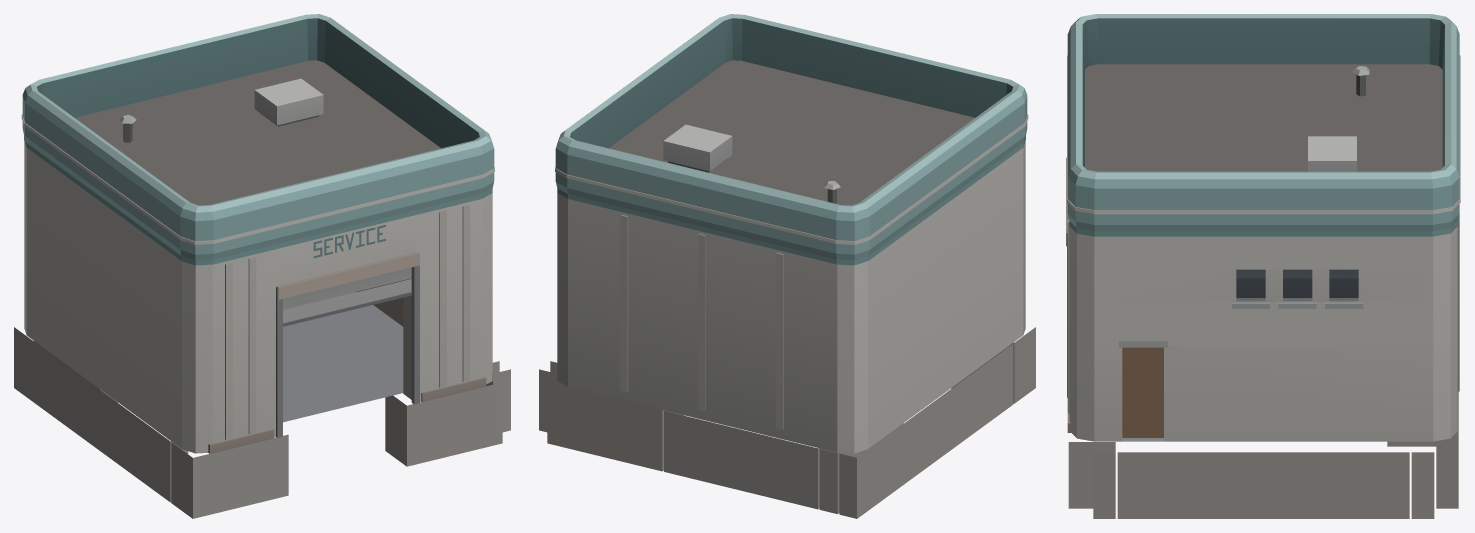
Rendered from garage.lod1.glb.
3 renders of one model, left to right at view 1: azimuth 30°, elevation 25°; view 2: azimuth 150°, elevation 25°; view 3: azimuth 270°, elevation 25°, orthographic. The views are drawn at different scales.
Size of the model in its own units: 8.5 by 7.5 by 8.09.
